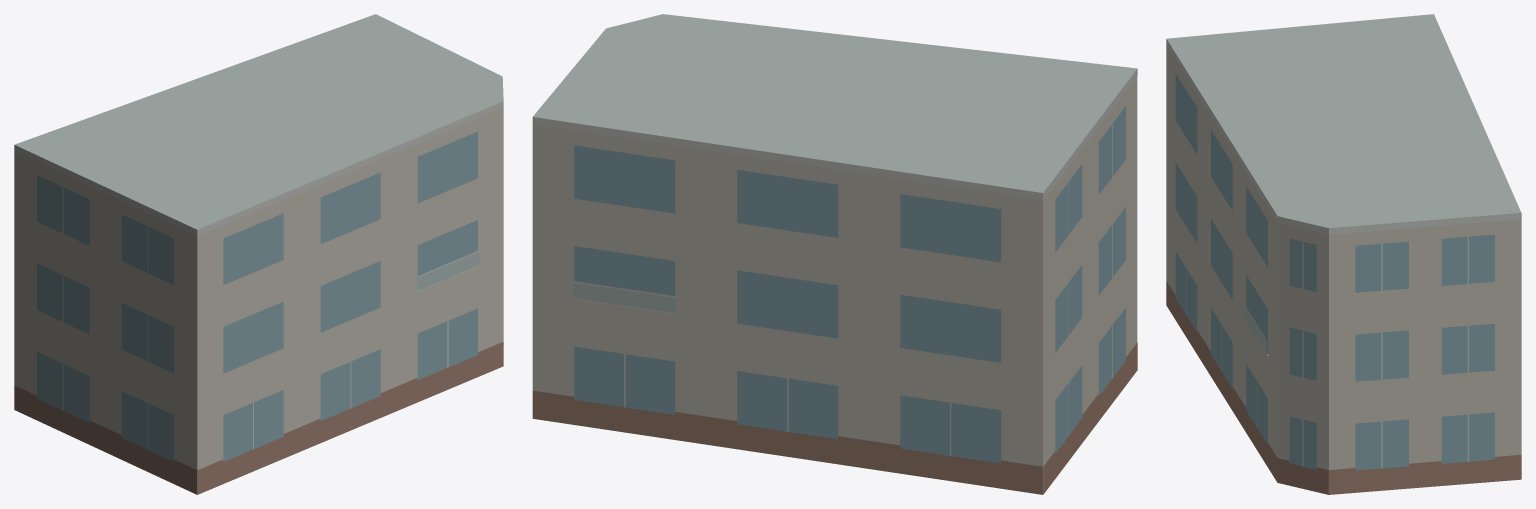
File: survey-upis-32748962.glb
The picture shows the model from 3 angles, left to right: view 1: azimuth 30°, elevation 25°; view 2: azimuth 150°, elevation 25°; view 3: azimuth 270°, elevation 25°; orthographic projection. The views are drawn at different scales.
Parts seen in each view (by area): view 1: survey-upis-32748962.tmp; view 2: survey-upis-32748962.tmp; view 3: survey-upis-32748962.tmp.
Part boxes in pixels (x1=…): survey-upis-32748962.tmp: x1=14, y1=14, x2=503, y2=494; survey-upis-32748962.tmp: x1=532, y1=14, x2=1137, y2=494; survey-upis-32748962.tmp: x1=1166, y1=14, x2=1521, y2=494.
Bounding box in the file's own units: 17.4 × 10.1 × 12.2.
